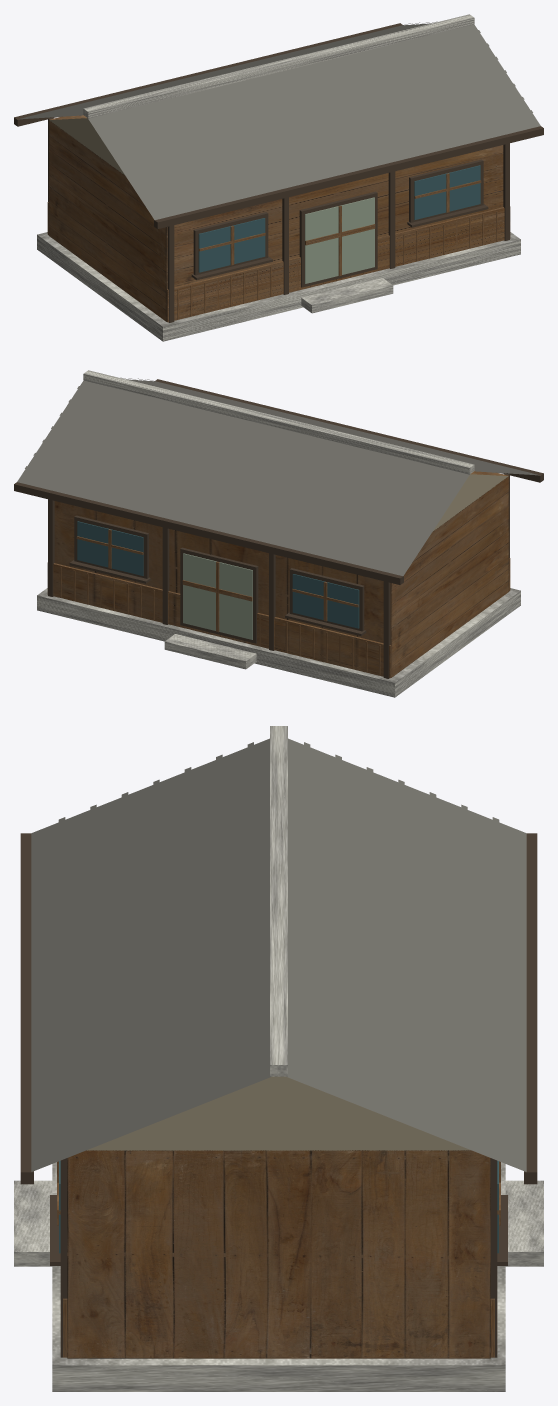
The model's file is village-house-dark.obj.
3 views of the same model, one above another, from view 1: azimuth 30°, elevation 25°; view 2: azimuth 150°, elevation 25°; view 3: azimuth 270°, elevation 25° (orthographic). The views are drawn at different scales.
Bounding box in the file's own units: 9.02 × 4.21 × 5.96.
Materials: 9 (5 with a texture image).
